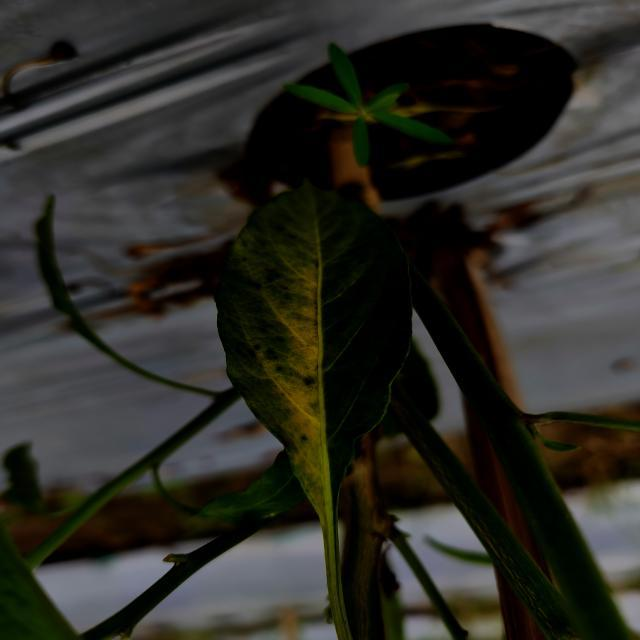Virus Kuning: (210, 176, 414, 516)
